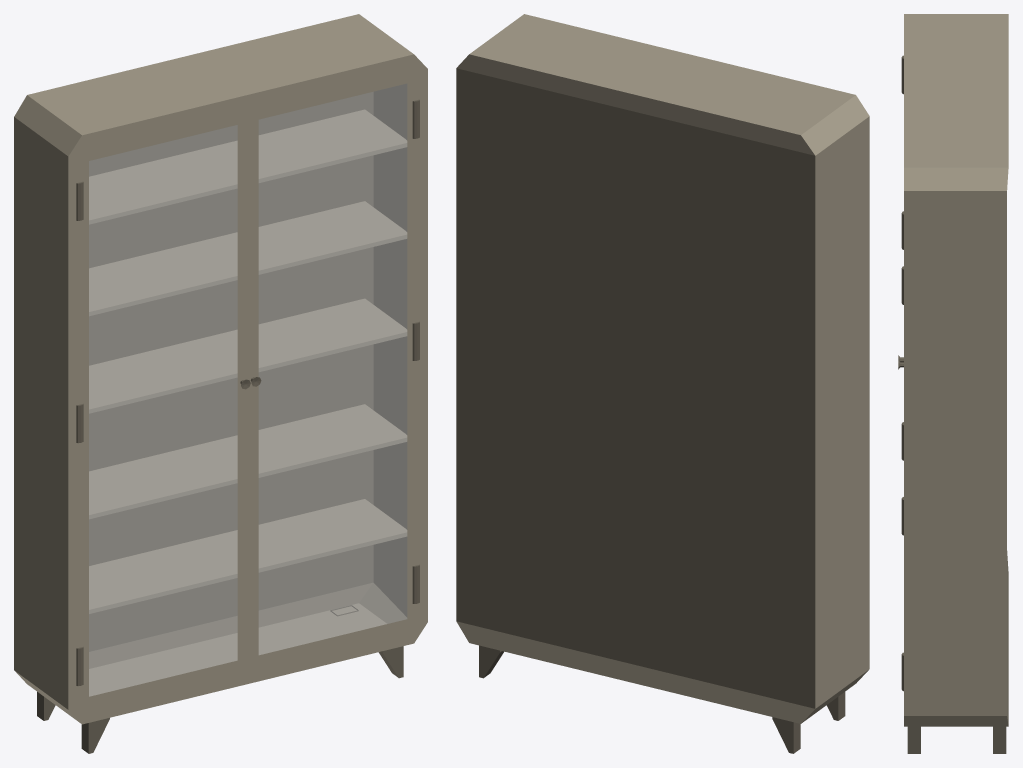
The model's file is Armario.fbx.
3 renders of one model, left to right at view 1: azimuth 30°, elevation 25°; view 2: azimuth 150°, elevation 25°; view 3: azimuth 270°, elevation 25°, orthographic. The views are drawn at different scales.
Parts seen in each view (by area): view 1: Armarios; view 2: Armarios; view 3: Armarios.
Boxes of the visible parts, bbox=[...] form: Armarios: bbox=[14, 14, 427, 753]; Armarios: bbox=[456, 14, 869, 753]; Armarios: bbox=[898, 14, 1008, 753].
Size of the model in its own units: 108 by 178 by 30.09.
